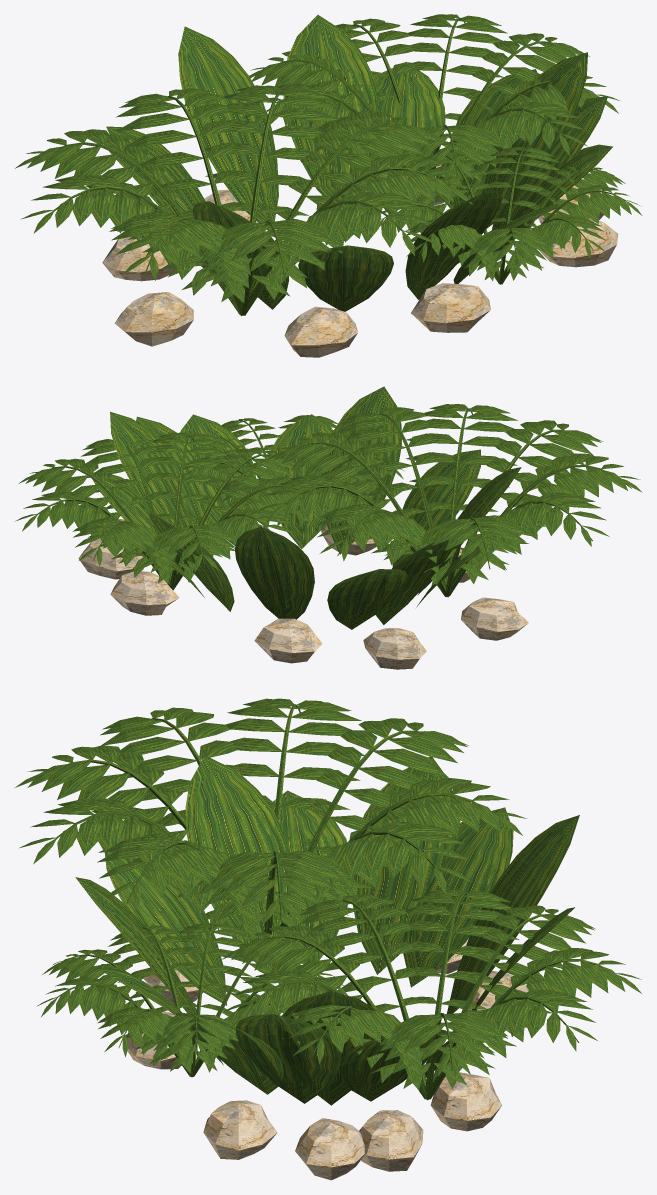
Rendered from TropicalUnderstory.fbx.
3 views of the same model, one above another, from view 1: azimuth 30°, elevation 25°; view 2: azimuth 150°, elevation 25°; view 3: azimuth 270°, elevation 25° (orthographic). The views are drawn at different scales.
Visible parts, largest first — view 1: TropicalUnderstory_LOD0; view 2: TropicalUnderstory_LOD0; view 3: TropicalUnderstory_LOD0.
Part boxes in pixels (<box>): TropicalUnderstory_LOD0: <box>15,14,642,357</box>; TropicalUnderstory_LOD0: <box>15,386,642,669</box>; TropicalUnderstory_LOD0: <box>15,698,641,1180</box>.
Size of what is drawn, in the model's own units: 3.77 by 1.07 by 2.94.
